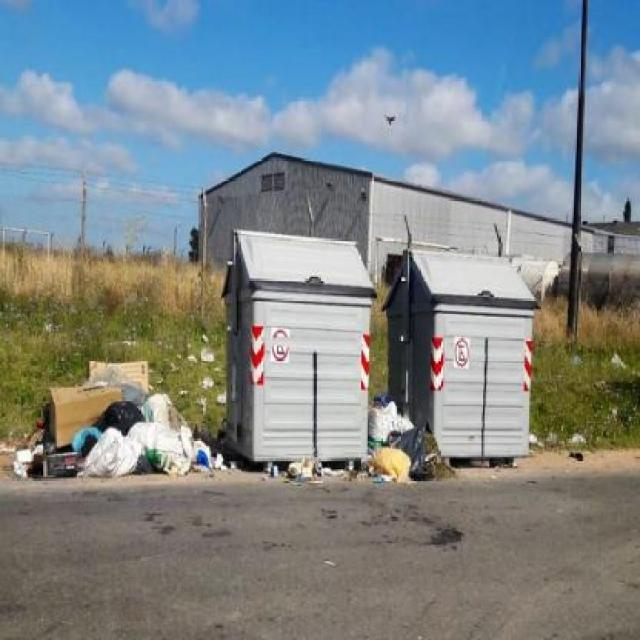garbage: (5, 350, 242, 486), (268, 452, 459, 494), (371, 392, 432, 446)
